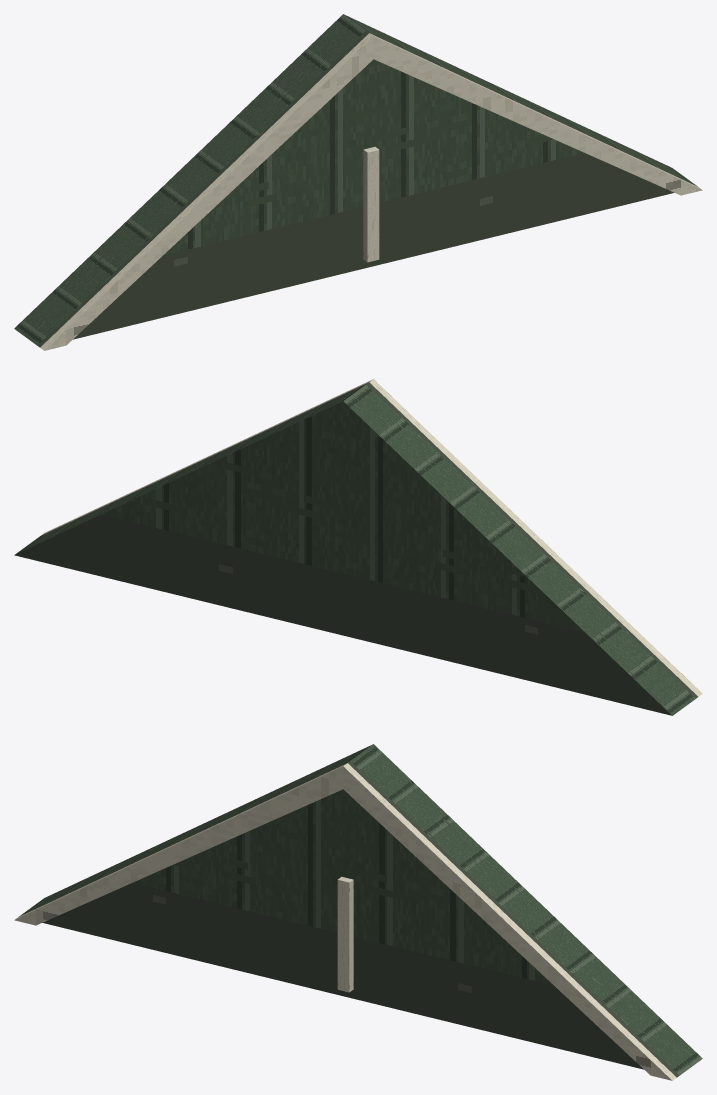
File: house_04_gable.glb
3 renders of one model, top to bottom at view 1: azimuth 30°, elevation 25°; view 2: azimuth 150°, elevation 25°; view 3: azimuth 330°, elevation 25°, orthographic.
Visible parts, largest first — view 1: house_04_gable; view 2: house_04_gable; view 3: house_04_gable.
Boxes of the visible parts, x1,y1,x2,y2 form: house_04_gable: (14,14,702,350); house_04_gable: (14,379,702,715); house_04_gable: (14,744,702,1080).
Bounding box in the file's own units: 3 × 1.02 × 0.24.
Materials: 2 (2 with a texture image).
